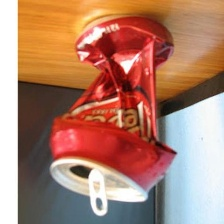can: (41, 13, 181, 218)
